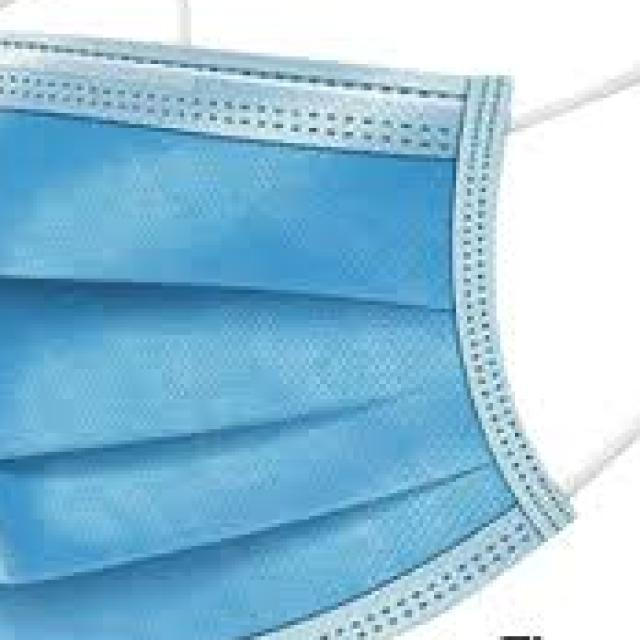organic: (19, 20, 593, 616)
